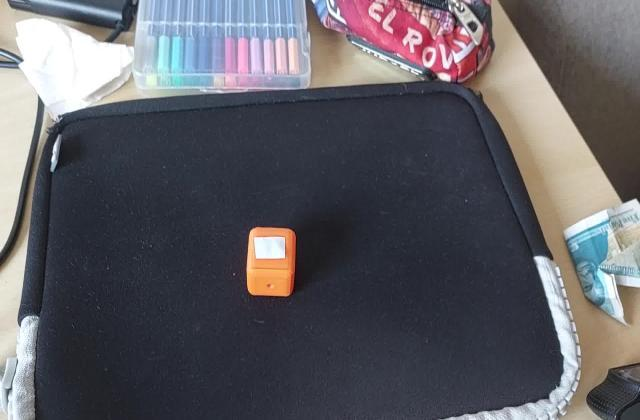sticker: (244, 226, 300, 300)
white: (252, 234, 290, 262)
